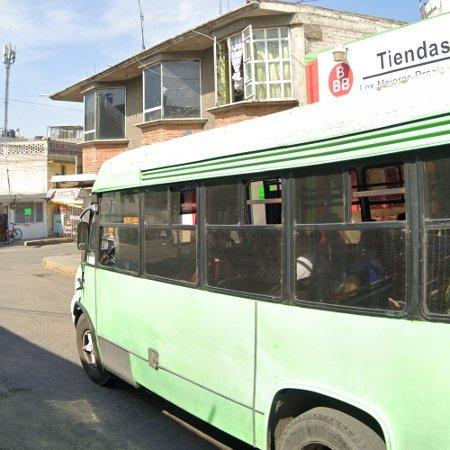buses: (73, 13, 450, 450)
